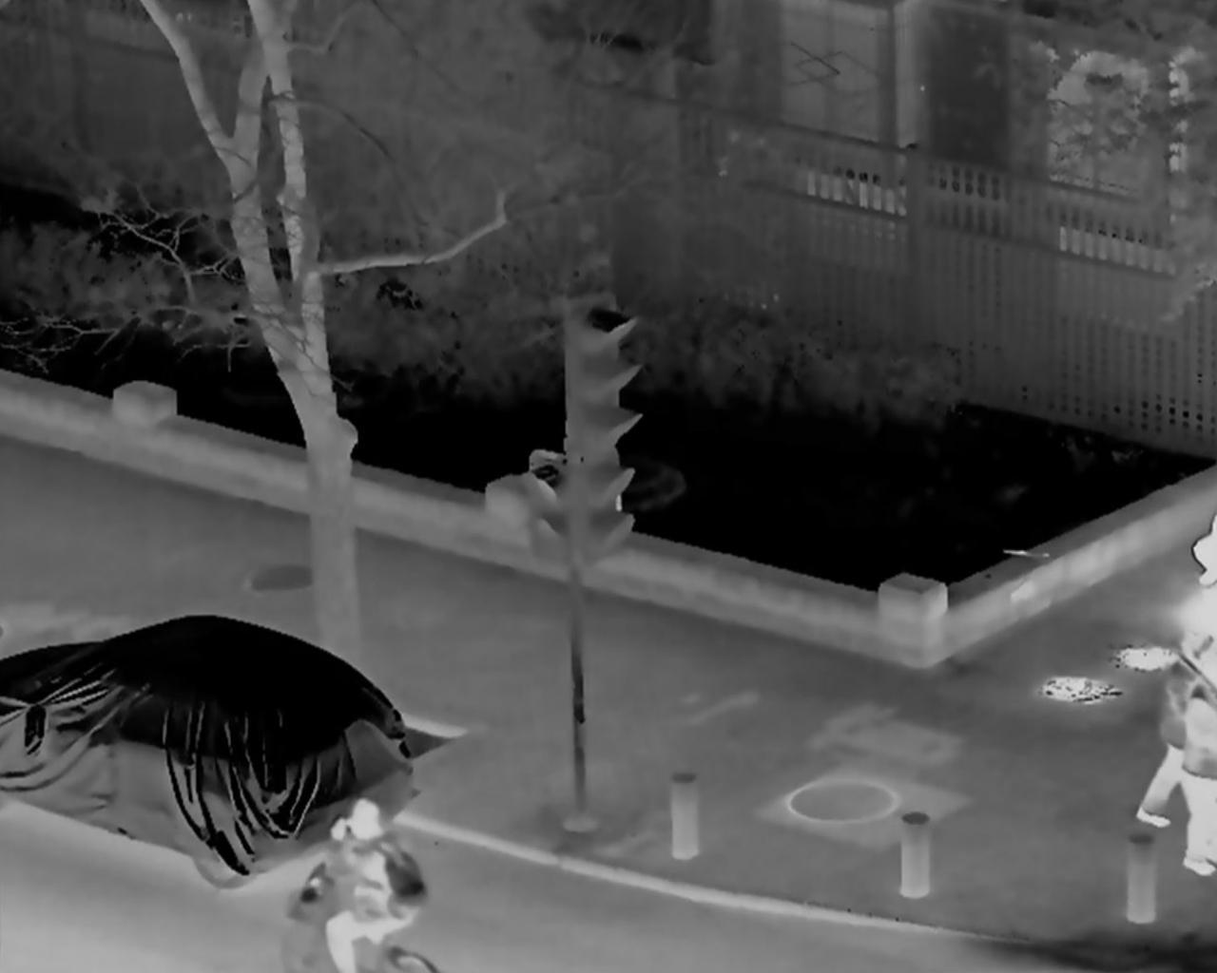person: (308, 798, 415, 973), (1144, 634, 1217, 818), (1186, 674, 1217, 873)
